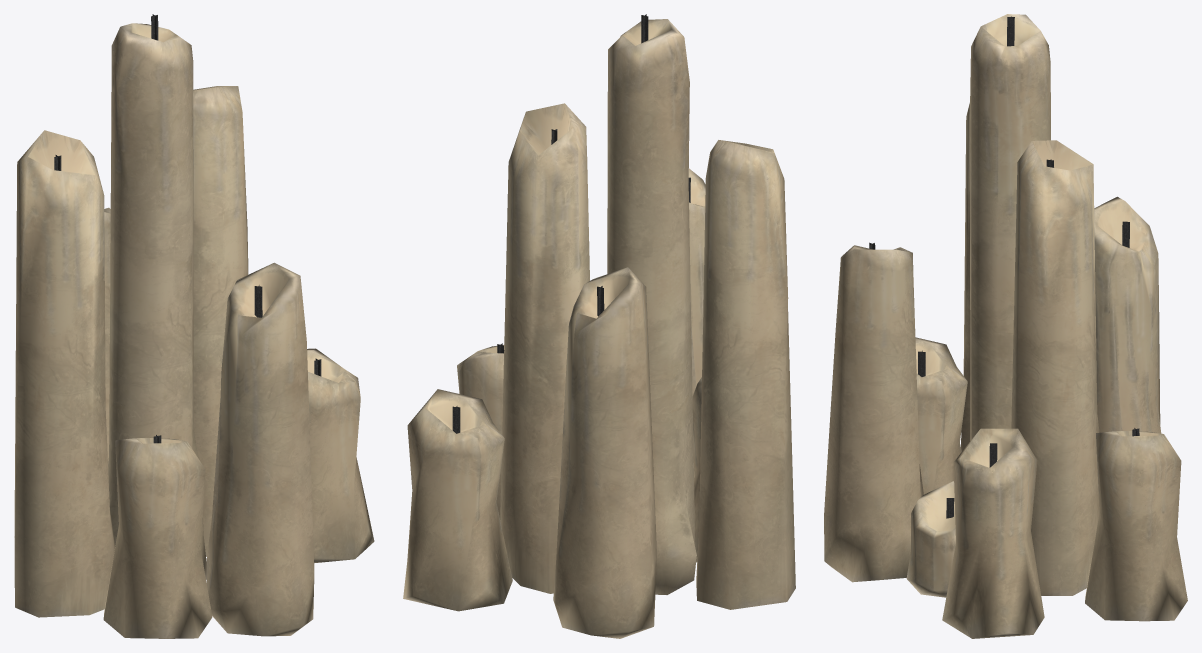
The model's file is SM_CandleCluster_01b.fbx.
3 renders of one model, left to right at view 1: azimuth 30°, elevation 25°; view 2: azimuth 150°, elevation 25°; view 3: azimuth 270°, elevation 25°, orthographic. The views are drawn at different scales.
Parts seen in each view (by area): view 1: SM_CandleCluster_01b; view 2: SM_CandleCluster_01b; view 3: SM_CandleCluster_01b.
Part boxes in pixels (x1,y1,x2,y2): SM_CandleCluster_01b: [14, 14, 374, 638]; SM_CandleCluster_01b: [403, 14, 795, 638]; SM_CandleCluster_01b: [824, 14, 1187, 638].
Bounding box in the file's own units: 41.14 × 39.96 × 64.63.
Materials: 1 (1 with a texture image).
